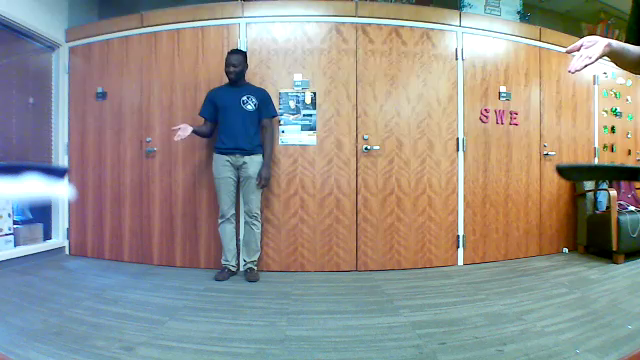land: (557, 27, 617, 78), (169, 121, 198, 148)
